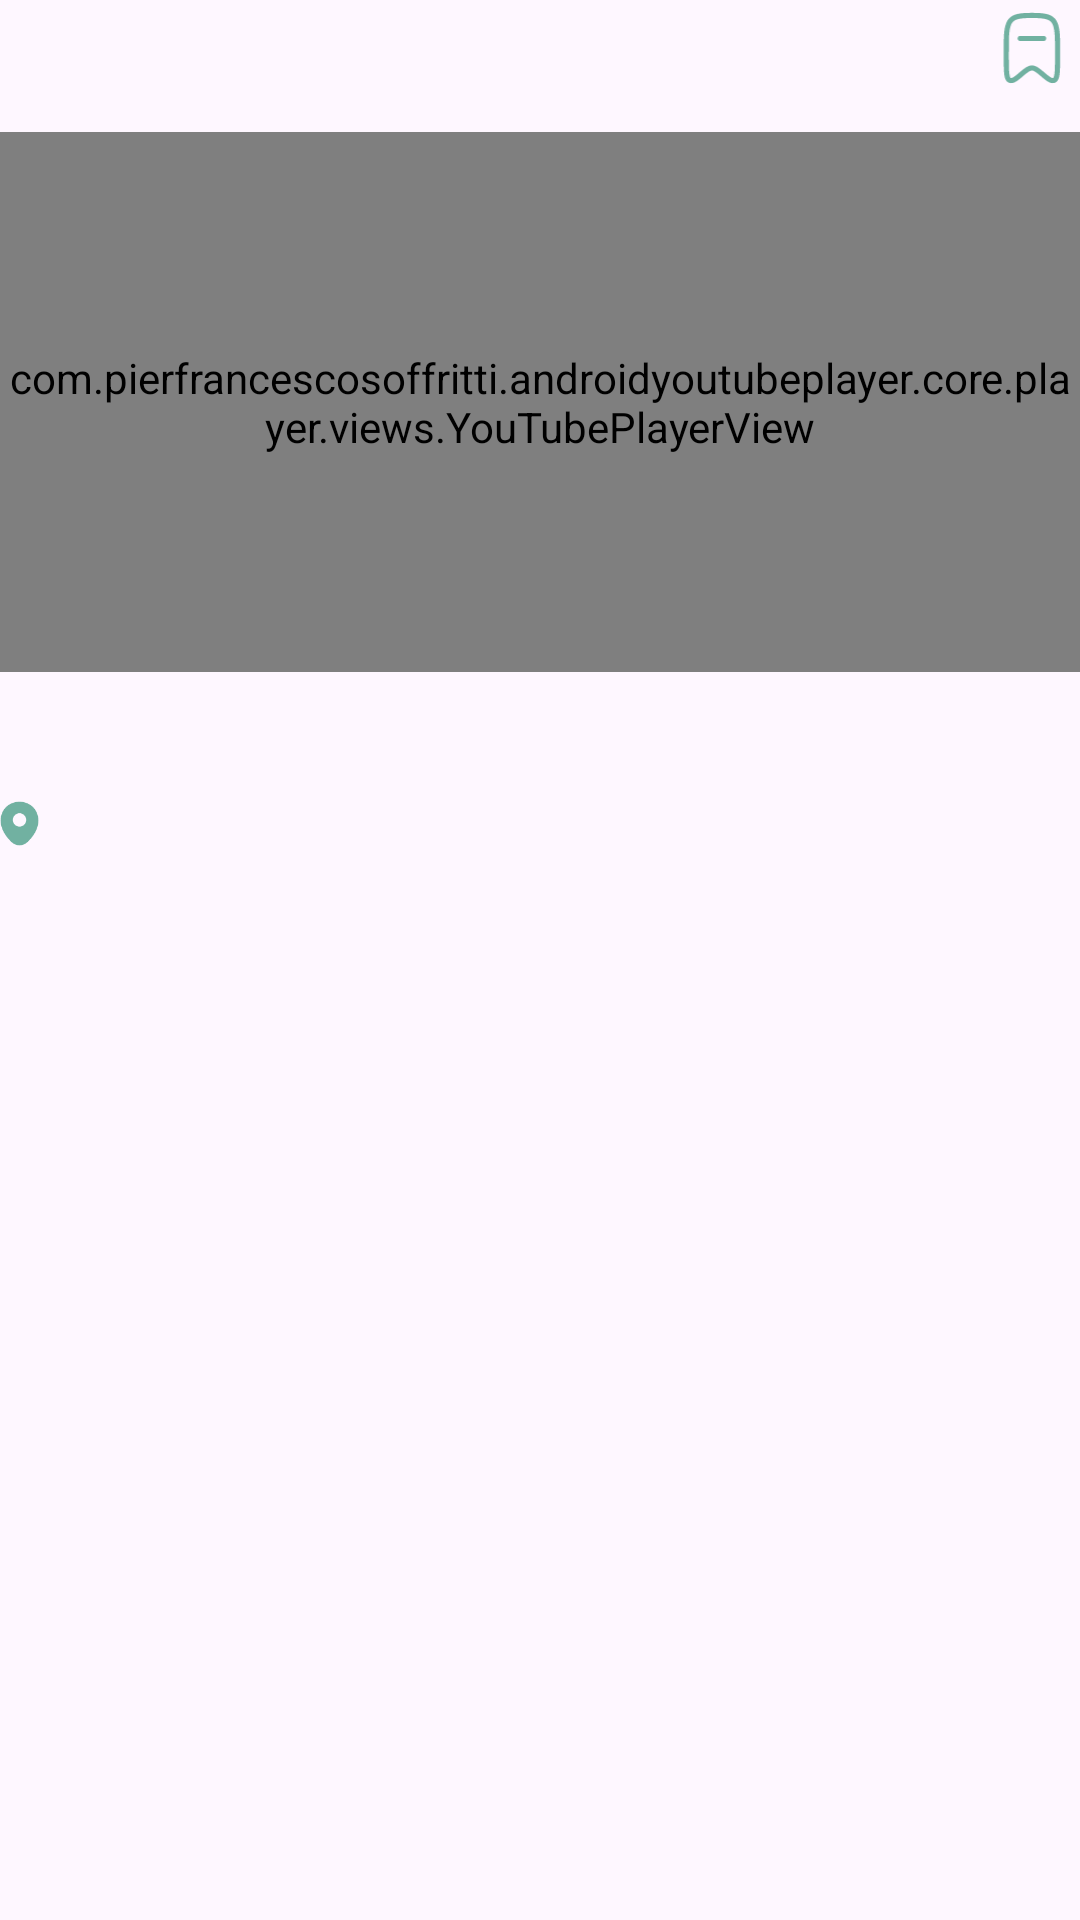

Where icons sit on this 1080x1920 app screen, as (x1, y1, x2, y2):
bookmark unsaved: (1003, 12, 1061, 83)
location: (0, 801, 39, 846)
